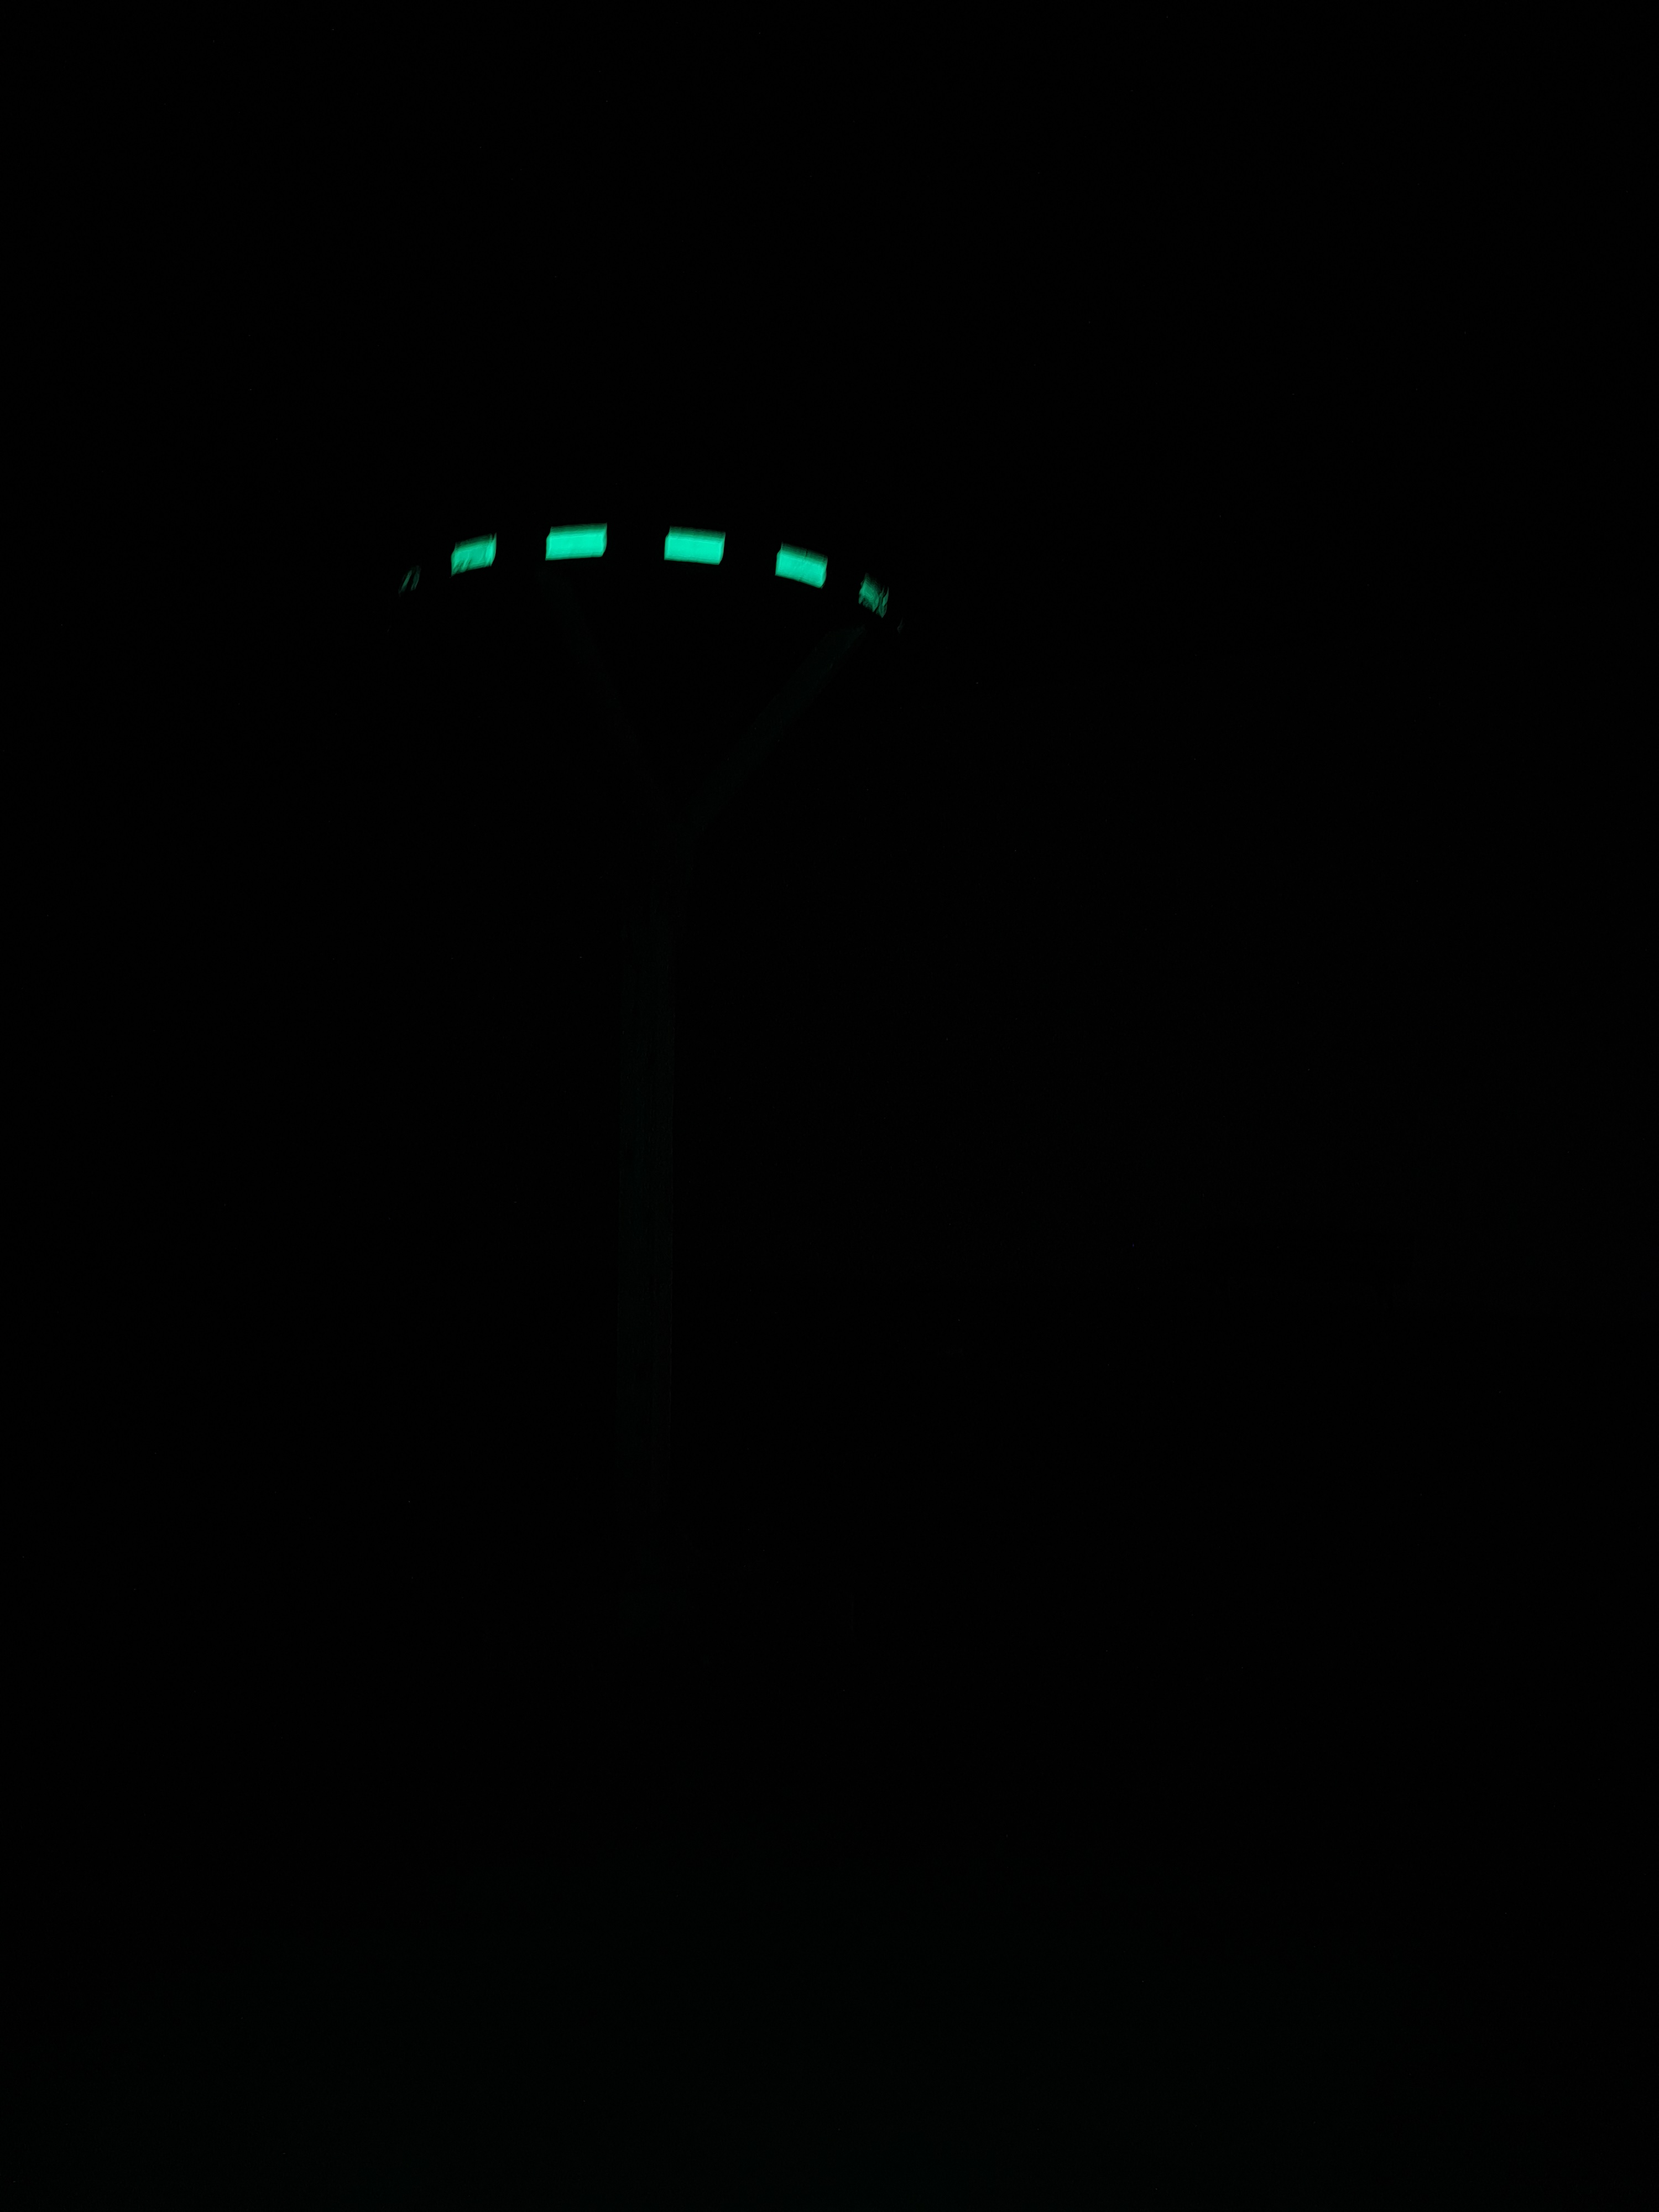hoop: (380, 510, 906, 648)
